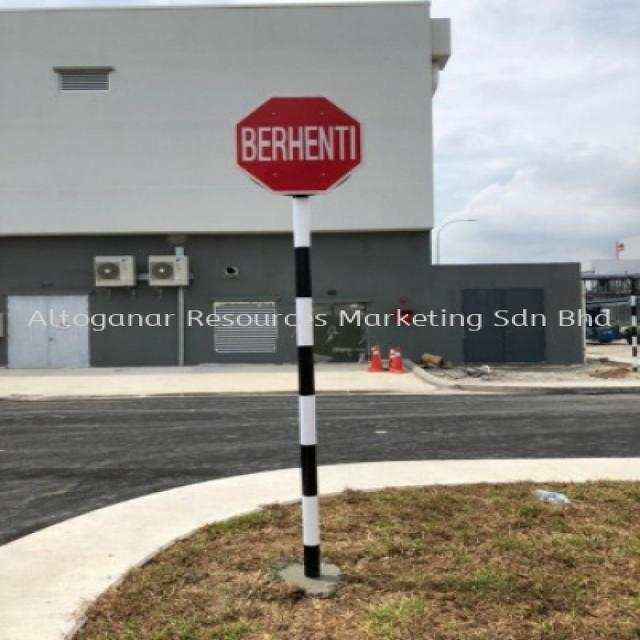stop-sign: (220, 90, 366, 194)
